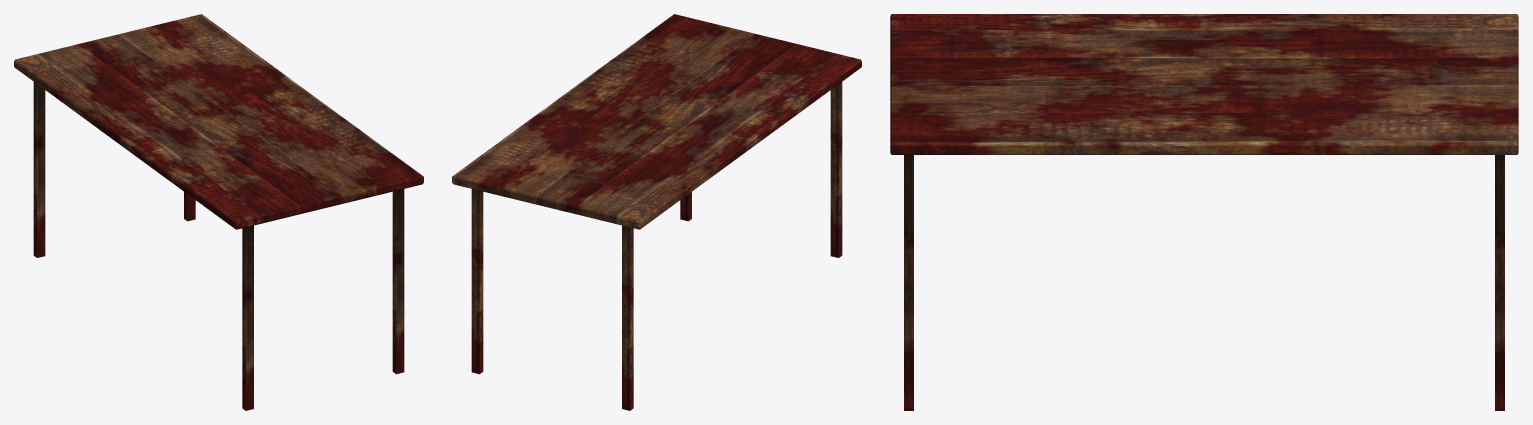
Rendered from LongTable.fbx.
3 views of the same model, side by side, from view 1: azimuth 30°, elevation 25°; view 2: azimuth 150°, elevation 25°; view 3: azimuth 270°, elevation 25° (orthographic). The views are drawn at different scales.
Parts seen in each view (by area): view 1: longtable; view 2: longtable; view 3: longtable.
Boxes of the visible parts, x1=… form: longtable: x1=14, y1=14, x2=423, y2=410; longtable: x1=452, y1=14, x2=861, y2=410; longtable: x1=890, y1=14, x2=1518, y2=410.
Bounding box in the file's own units: 102 × 102 × 208.
Materials: 1 (1 with a texture image).
